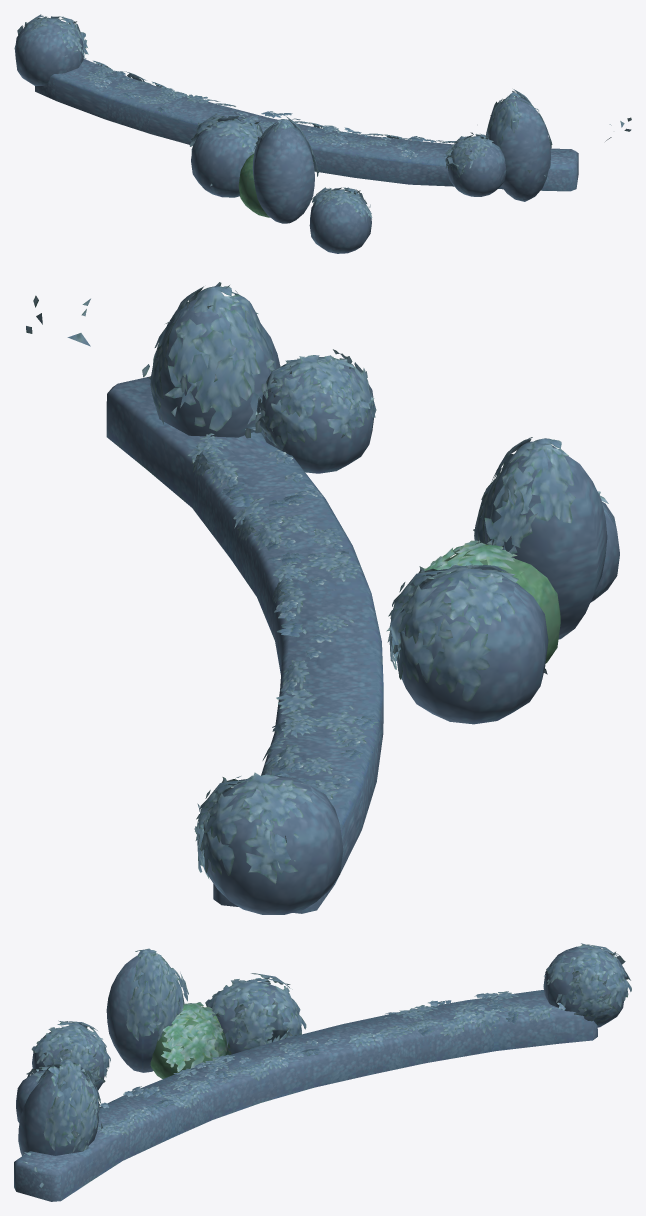
File: pref_sm_beach_bk_winter_pointmol_longplant_R02_lv1.fbx
3 renders of one model, top to bottom at view 1: azimuth 30°, elevation 25°; view 2: azimuth 150°, elevation 25°; view 3: azimuth 270°, elevation 25°, orthographic. The views are drawn at different scales.
Visible parts, largest first — view 1: sm_beach_bk_winter_pointmol_longplant_R02_lv1; view 2: sm_beach_bk_winter_pointmol_longplant_R02_lv1; view 3: sm_beach_bk_winter_pointmol_longplant_R02_lv1.
Boxes of the visible parts, <box> form: sm_beach_bk_winter_pointmol_longplant_R02_lv1: <box>14,14,631,253</box>; sm_beach_bk_winter_pointmol_longplant_R02_lv1: <box>26,282,619,914</box>; sm_beach_bk_winter_pointmol_longplant_R02_lv1: <box>14,943,631,1201</box>.
Bounding box in the file's own units: 19.88 × 5.9 × 23.32.
